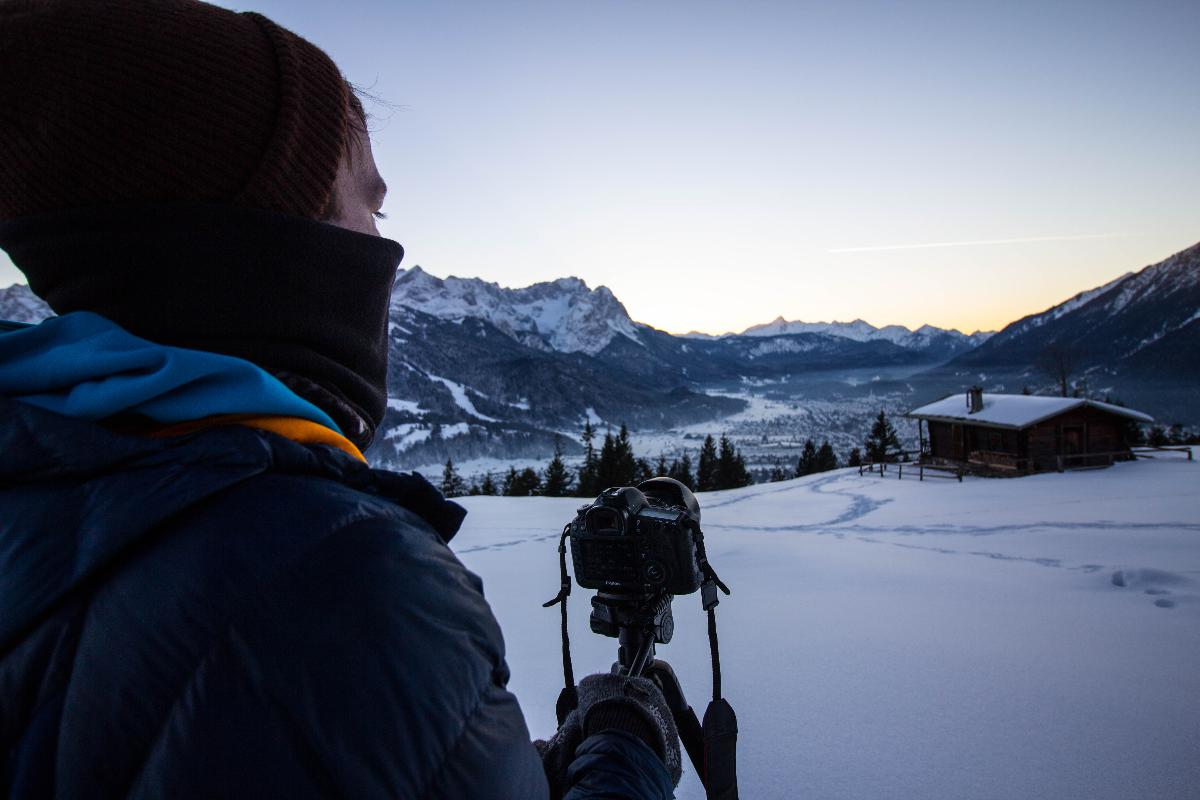Person: (13, 9, 734, 800)
